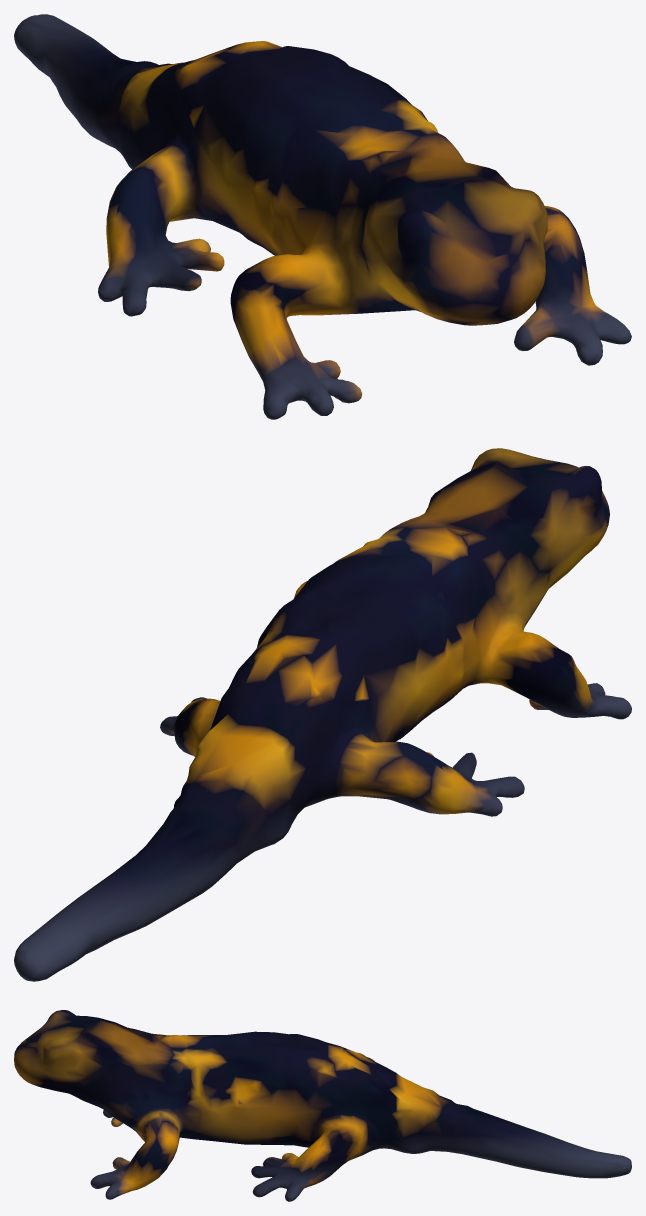
Rendered from firesal.lo.glb.
3 renders of one model, top to bottom at view 1: azimuth 30°, elevation 25°; view 2: azimuth 150°, elevation 25°; view 3: azimuth 270°, elevation 25°, orthographic. The views are drawn at different scales.
Visible parts, largest first — view 1: firesal; view 2: firesal; view 3: firesal.
Boxes of the visible parts, x1,y1,x2,y2 form: firesal: (14,14,631,419); firesal: (14,448,631,981); firesal: (14,1010,631,1201).
Size of the model in its own units: 0.0721 by 0.0425 by 0.1799.
